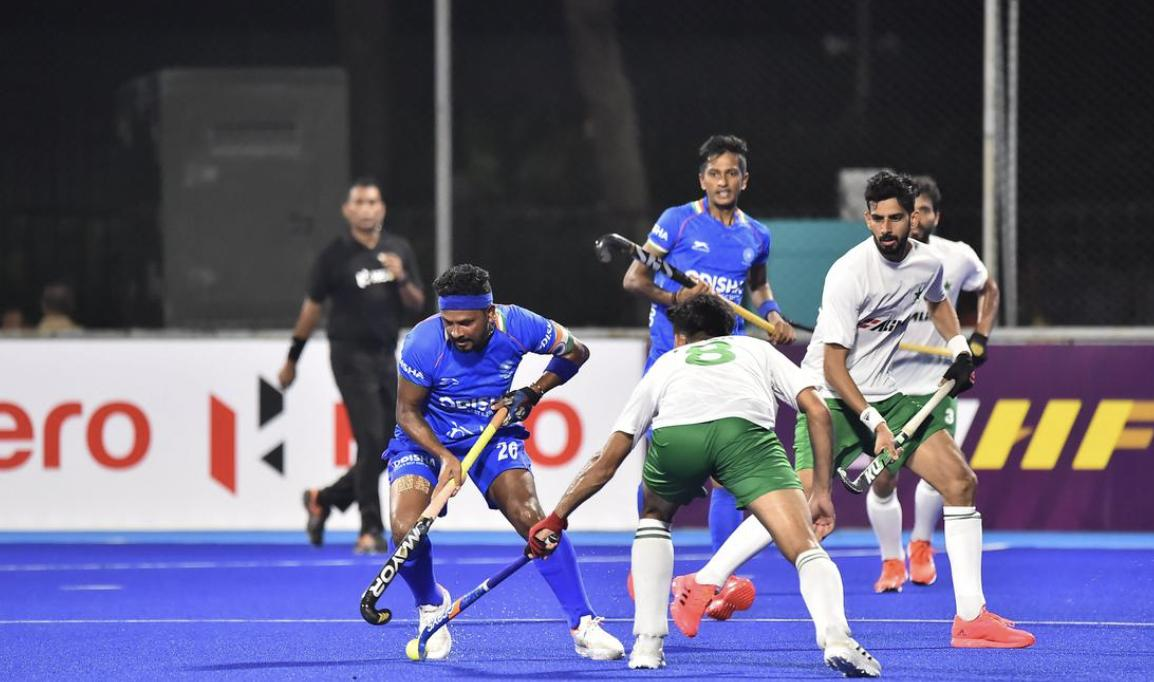ball: (404, 630, 427, 662)
